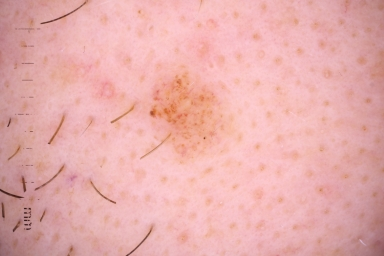melanoma: (150, 70, 220, 157)
